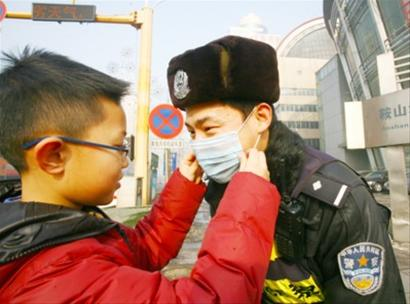face: (56, 99, 133, 205)
face_mask: (187, 101, 252, 184)
